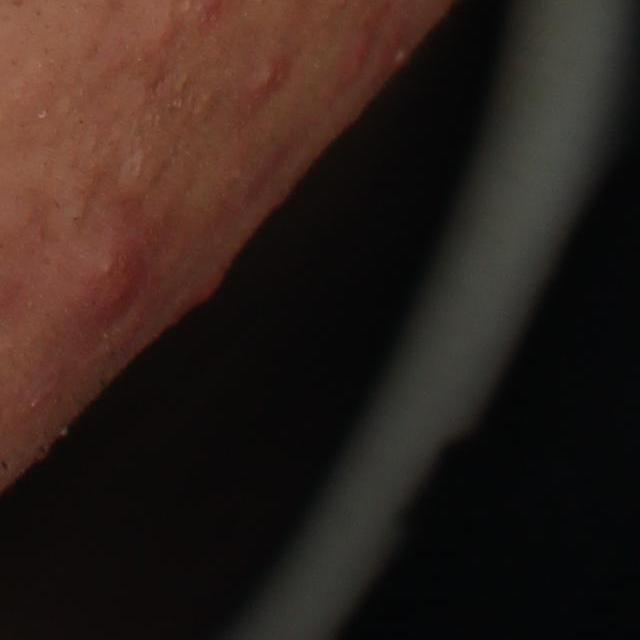papule: (42, 224, 152, 352), (188, 259, 233, 309), (344, 22, 374, 82), (257, 50, 289, 93), (147, 15, 179, 55)
pustule: (388, 37, 411, 71)
